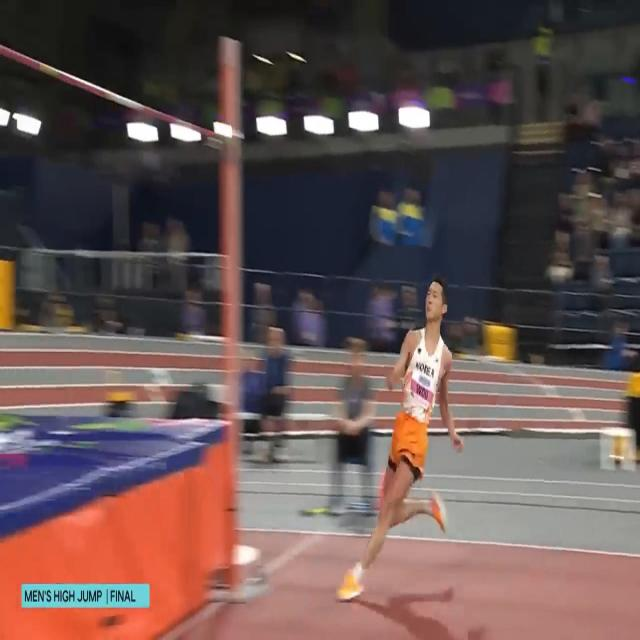run: (334, 270, 463, 604)
